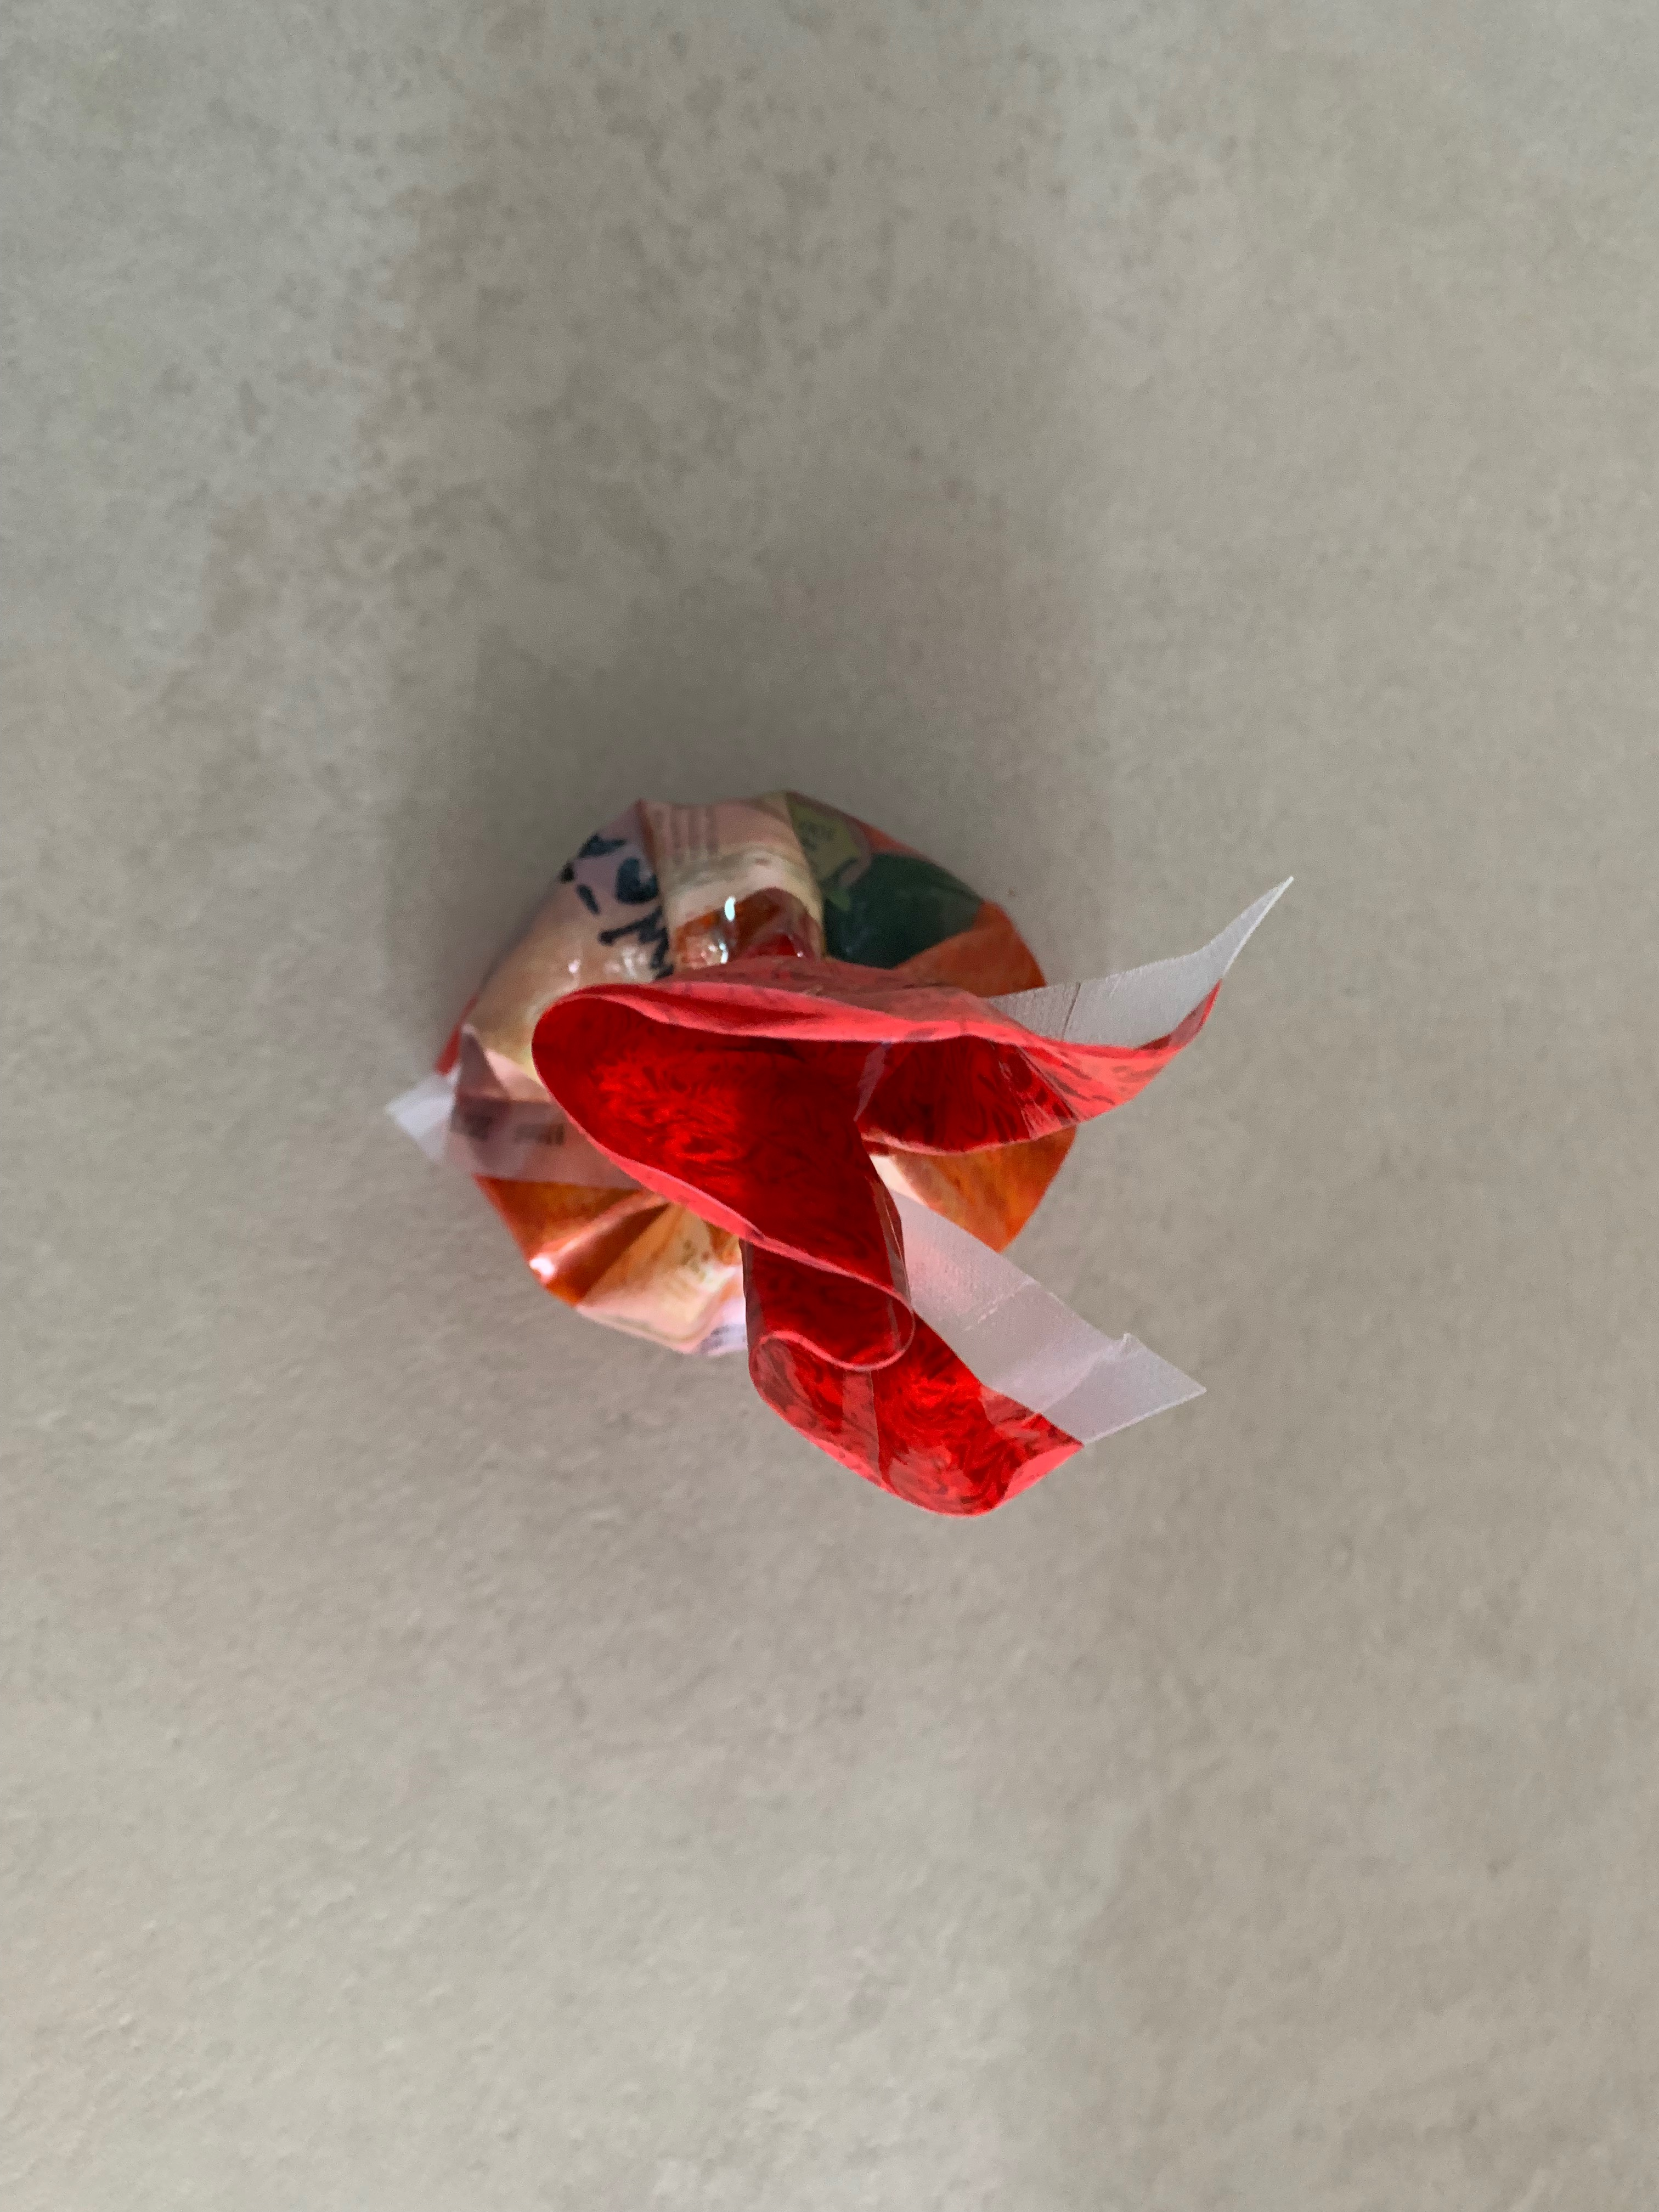kimchi: (432, 791, 1087, 1521)
